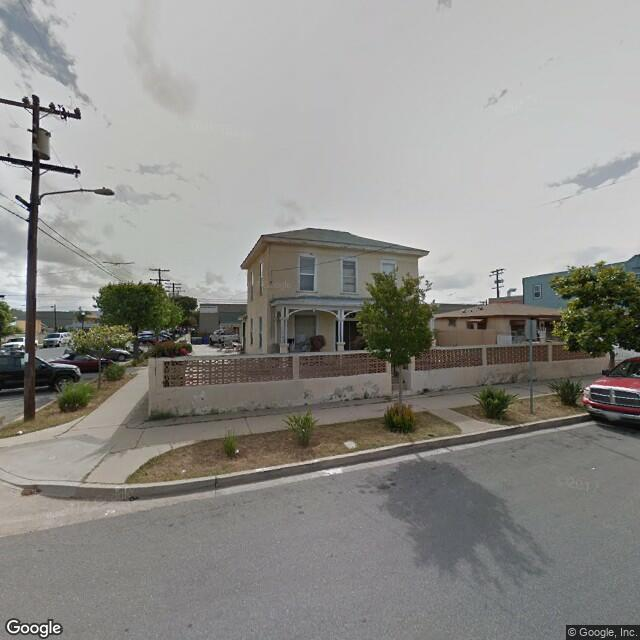litter: (233, 447, 241, 455)
